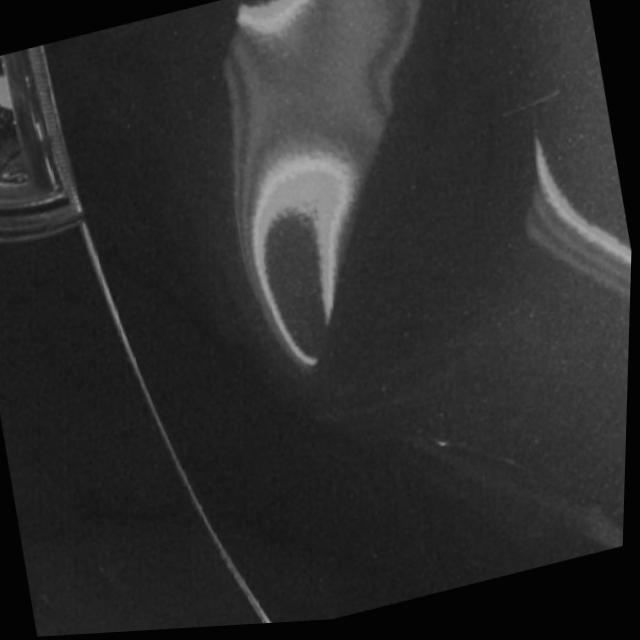Dent: (225, 0, 542, 410)
